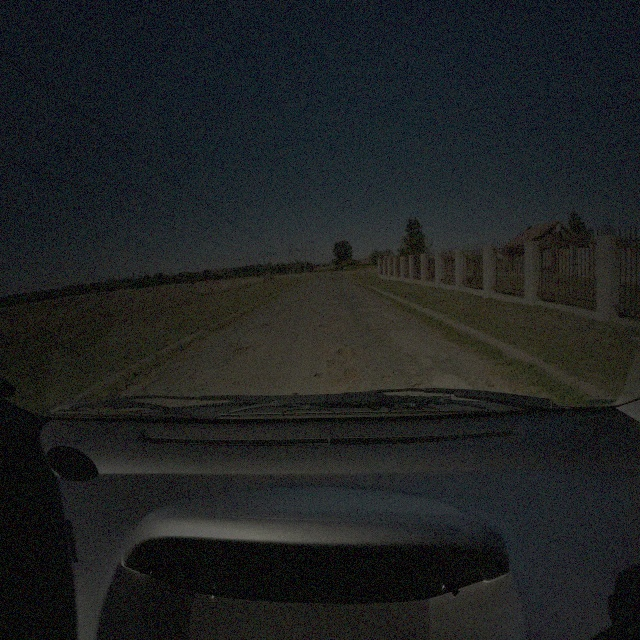pothole: (336, 348, 360, 362), (232, 344, 258, 356), (342, 368, 364, 381), (411, 375, 427, 392), (320, 320, 340, 333), (257, 320, 272, 330), (326, 357, 338, 369), (405, 363, 419, 372), (227, 340, 241, 349), (232, 378, 245, 387), (356, 335, 370, 342), (315, 369, 324, 378), (382, 377, 393, 383)
